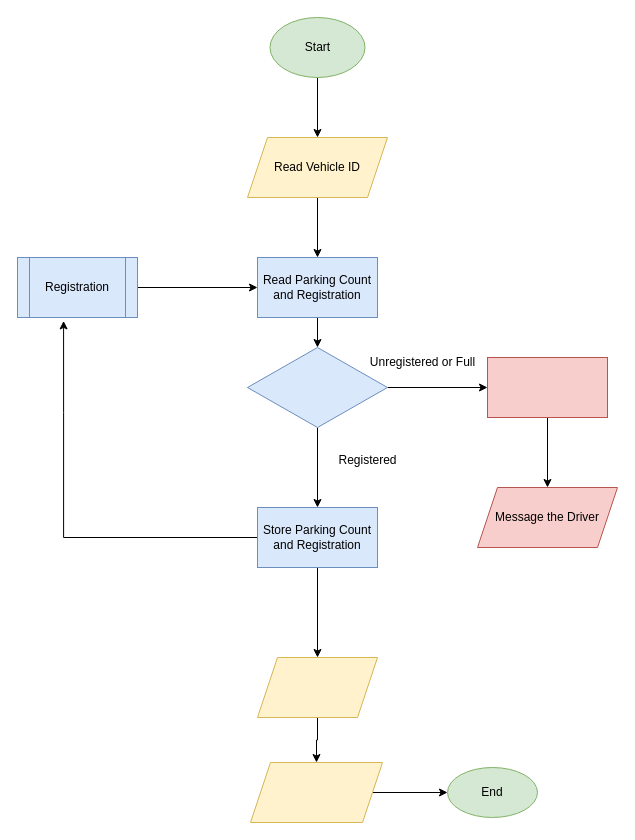
Some shapes in this 635 by 840 pixel diagram are drawn without their labels. Each missing label, with the centre of its shape:
Display Parking count: [317,687]
Open Gate: [316,792]
Trigger the alert and keep the gate closed: [547,387]
Verify Registration & Count: [317,387]
